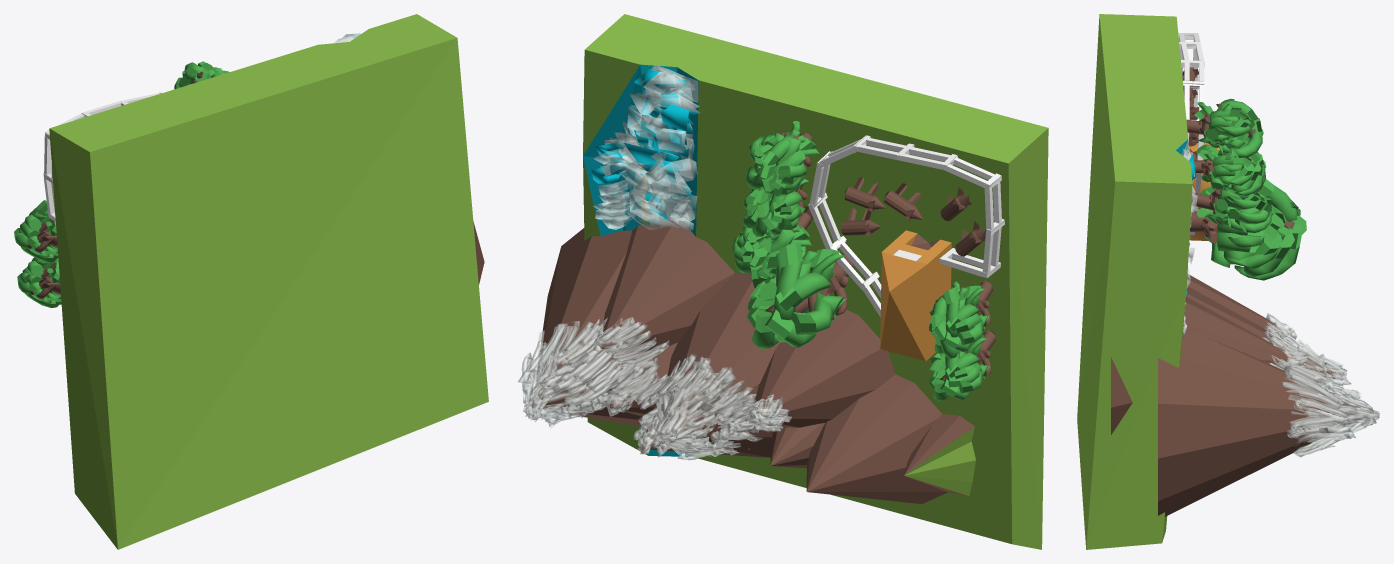
The model's file is farm.dae.
The picture shows the model from 3 angles, left to right: view 1: azimuth 30°, elevation 25°; view 2: azimuth 150°, elevation 25°; view 3: azimuth 270°, elevation 25°; orthographic projection. The views are drawn at different scales.
Parts seen in each view (by area): view 1: farm; view 2: farm; view 3: farm.
Part boxes in pixels (left/top/right/bottom): farm: left=14, top=14, right=488, bottom=549; farm: left=518, top=14, right=1048, bottom=549; farm: left=1077, top=14, right=1379, bottom=549.
Bounding box in the file's own units: 0.7409 × 0.4495 × 0.6783.
